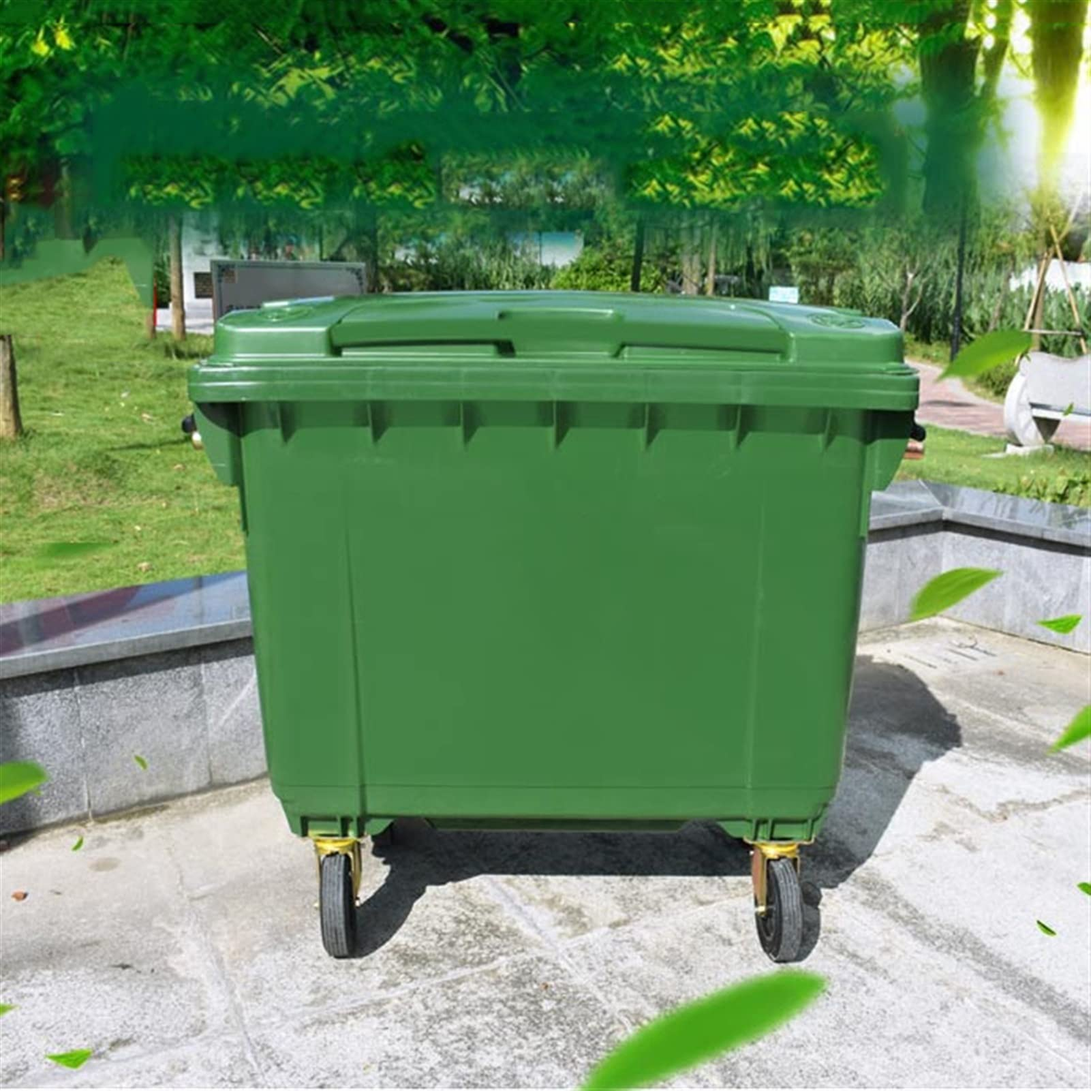full: (178, 286, 930, 996)
